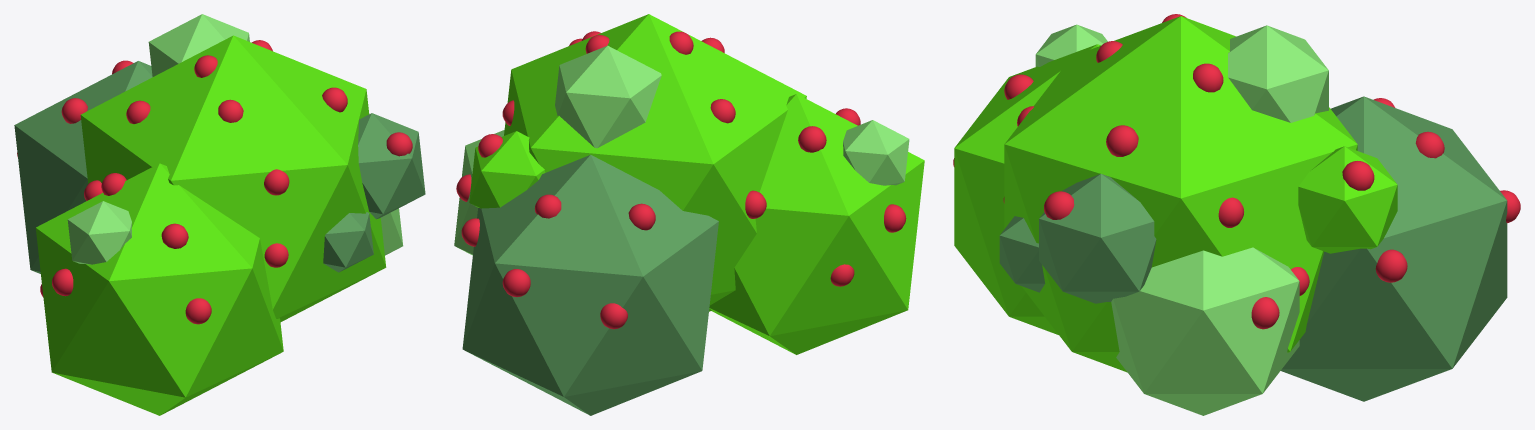
File: bosje-2.fbx
3 renders of one model, left to right at view 1: azimuth 30°, elevation 25°; view 2: azimuth 150°, elevation 25°; view 3: azimuth 270°, elevation 25°, orthographic. The views are drawn at different scales.
Visible parts, largest first — view 1: Icosphere.002, Icosphere.001, Icosphere.006, Sphere.022; view 2: Icosphere.002, Icosphere.001, Icosphere.006, Sphere.022; view 3: Icosphere.002, Icosphere.001, Icosphere.006, Sphere.022.
Part boxes in pixels (box(x1,y1,x2,y2)): Icosphere.002: box(35, 35, 386, 415); Icosphere.001: box(14, 61, 425, 273); Icosphere.006: box(67, 14, 403, 264); Sphere.022: box(17, 40, 412, 324); Icosphere.002: box(469, 14, 924, 354); Icosphere.001: box(462, 154, 718, 415); Icosphere.006: box(454, 45, 909, 255); Sphere.022: box(456, 31, 906, 329); Icosphere.002: box(954, 16, 1397, 372); Icosphere.001: box(999, 96, 1507, 401); Icosphere.006: box(1035, 24, 1328, 415); Sphere.022: box(953, 14, 1520, 329).
Bounding box in the file's own units: 414 × 338 × 438.
